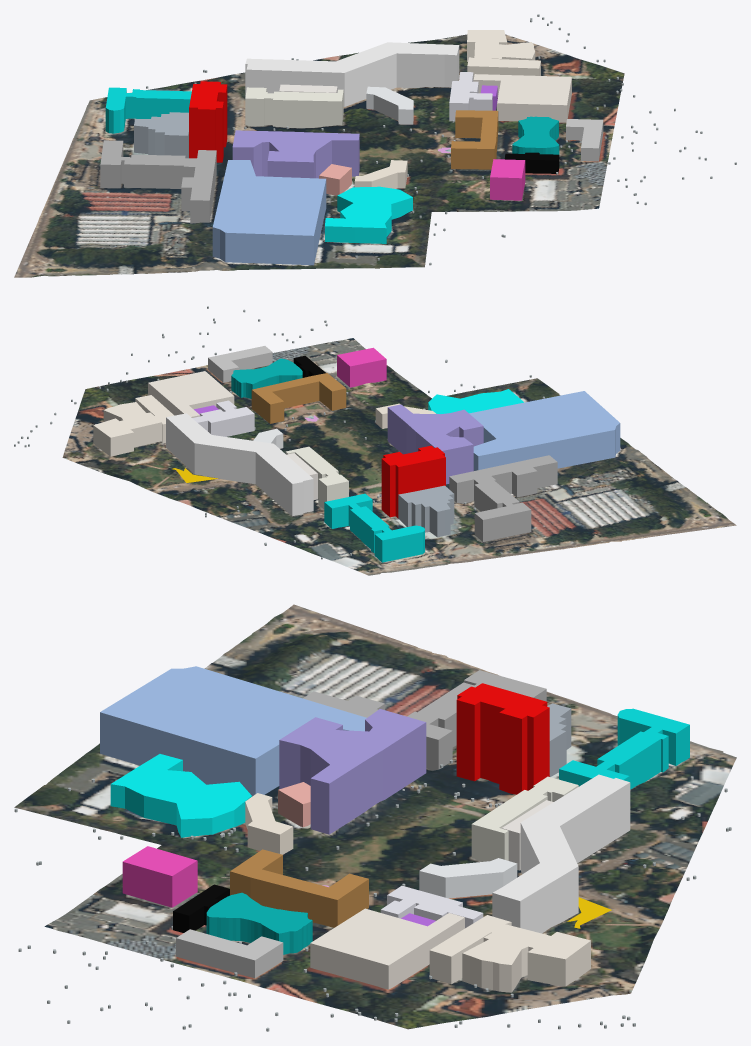
Rendered from 3dmodel.gltf.
3 views of the same model, one above another, from view 1: azimuth 30°, elevation 25°; view 2: azimuth 150°, elevation 25°; view 3: azimuth 270°, elevation 25° (orthographic). The views are drawn at different scales.
Parts seen in each view (by area): view 1: UP Buildings Zonal Stats, Filled Ground, Bins; view 2: UP Buildings Zonal Stats, Filled Ground, Bins; view 3: UP Buildings Zonal Stats, Filled Ground, Bins.
Boxes of the visible parts, <box> form: UP Buildings Zonal Stats: <box>100,30,603,265</box>; Filled Ground: <box>14,34,624,277</box>; Bins: <box>146,14,736,265</box>; UP Buildings Zonal Stats: <box>93,346,620,562</box>; Filled Ground: <box>62,338,736,575</box>; Bins: <box>14,306,544,559</box>; UP Buildings Zonal Stats: <box>100,666,689,992</box>; Filled Ground: <box>14,604,736,1029</box>; Bins: <box>14,759,731,1031</box>.
Bounding box in the file's own units: 531 × 48.35 × 362.
Materials: 26 (1 with a texture image).
